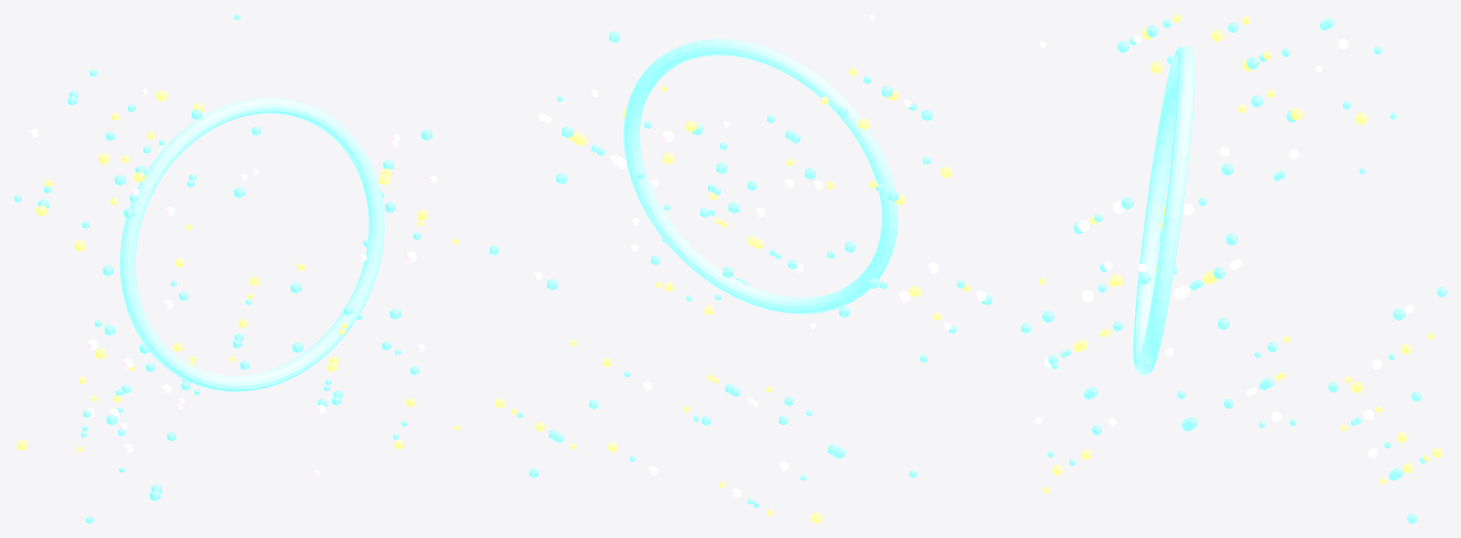
Rendered from air-quality-viz.glb.
3 views of the same model, side by side, from view 1: azimuth 30°, elevation 25°; view 2: azimuth 150°, elevation 25°; view 3: azimuth 270°, elevation 25° (orthographic). The views are drawn at different scales.
Parts seen in each view (by area): view 1: SensorRing; view 2: SensorRing; view 3: SensorRing.
Part boxes in pixels (bbox=[...]): SensorRing: bbox=[120, 98, 384, 391]; SensorRing: bbox=[623, 39, 898, 314]; SensorRing: bbox=[1133, 46, 1195, 375].
Size of the model in its own units: 2.65 by 2.65 by 2.43.
